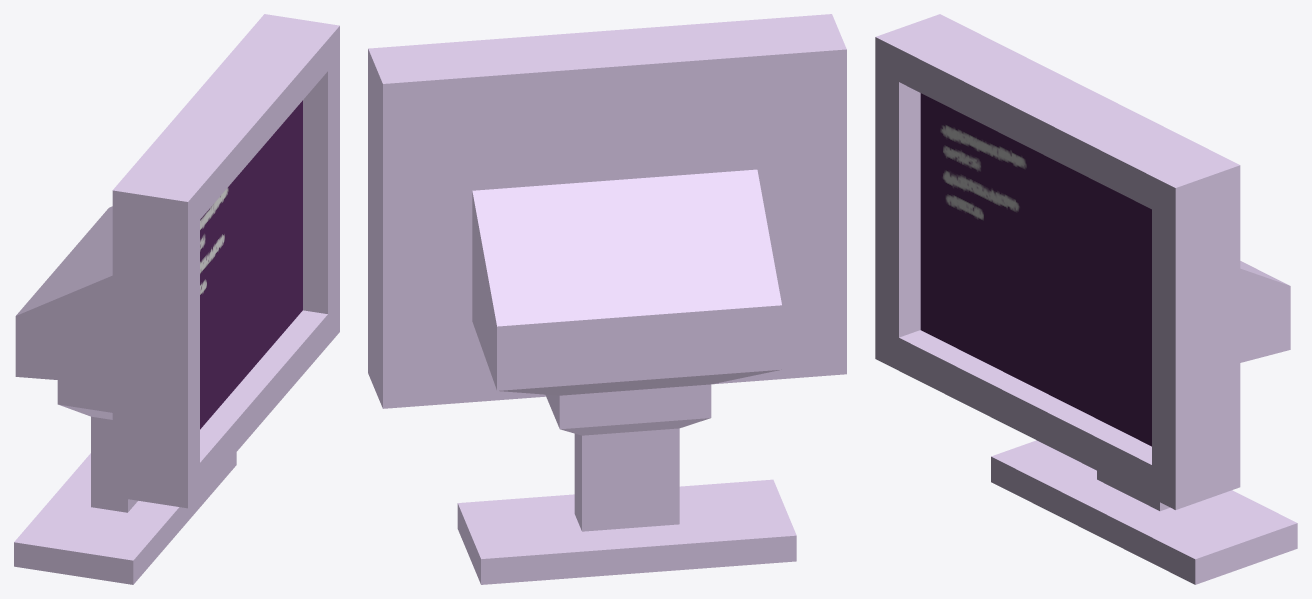
Rendered from monitor.obj.
3 renders of one model, left to right at view 1: azimuth 30°, elevation 25°; view 2: azimuth 150°, elevation 25°; view 3: azimuth 270°, elevation 25°, orthographic. The views are drawn at different scales.
Parts seen in each view (by area): view 1: monitor_Cube.011; view 2: monitor_Cube.011; view 3: monitor_Cube.011.
Boxes of the visible parts, bbox=[...] form: monitor_Cube.011: bbox=[14, 14, 339, 584]; monitor_Cube.011: bbox=[368, 14, 846, 584]; monitor_Cube.011: bbox=[875, 14, 1297, 584].
Bounding box in the file's own units: 1.91 × 2.12 × 1.82.
